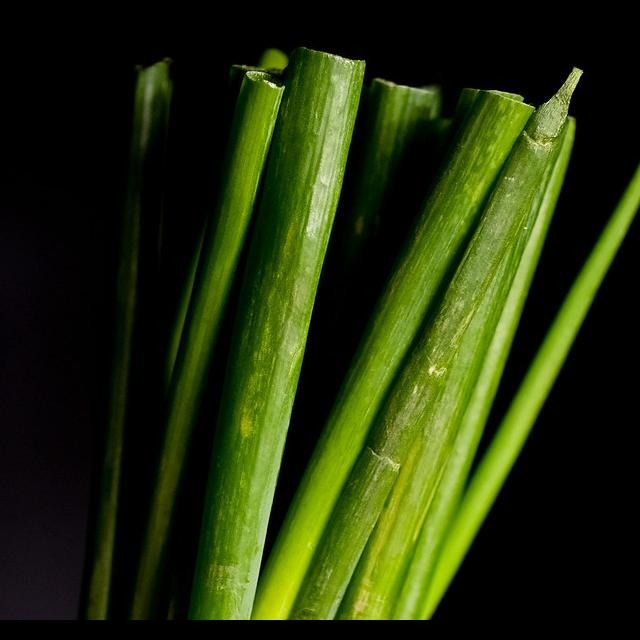green_onion: (87, 48, 640, 620)
